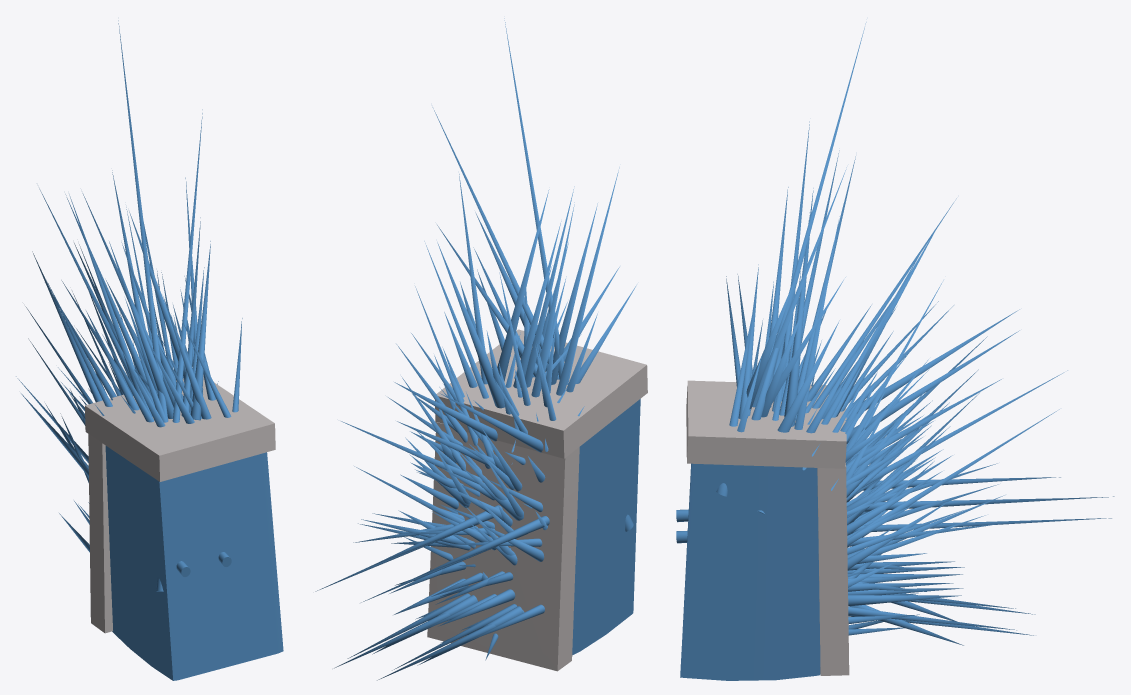
The model's file is JaggedsideStructure.fbx.
3 views of the same model, side by side, from view 1: azimuth 30°, elevation 25°; view 2: azimuth 150°, elevation 25°; view 3: azimuth 270°, elevation 25° (orthographic). The views are drawn at different scales.
Parts seen in each view (by area): view 1: Icemain, Snowtop, Snowside, SharpneedleTop101, SharpneedleTop86, SharpneedleTop89, SharpneedleTop88, SharpneedleTop75, SharpneedleTop93, SharpneedleTop131, SharpneedleTop100, SharpneedleTop77 (+15 smaller); view 2: Snowside, Icemain, Snowtop, SharpneedleTop101, SharpneedleTop88, SharpneedleTop90, SharpneedleTop28, SharpneedleTop86, SharpneedleTop92, SharpneedleTop89, SharpneedleTop93, SharpneedleTop137 (+16 smaller); view 3: Icemain, Snowtop, Snowside, SharpneedleTop101, SharpneedleTop90, SharpneedleTop4, SharpneedleTop86, SharpneedleTop118, SharpneedleTop78, SharpneedleTop126, SharpneedleTop45, SharpneedleTop131 (+15 smaller).
Boxes of the visible parts, x1,y1,x2,y2 form: Icemain: (105, 446, 283, 680); Snowtop: (85, 375, 275, 481); Snowside: (88, 434, 112, 633); SharpneedleTop101: (118, 20, 168, 422); SharpneedleTop86: (156, 109, 202, 591); SharpneedleTop89: (109, 241, 173, 418); SharpneedleTop88: (69, 194, 152, 416); SharpneedleTop75: (190, 241, 210, 420); SharpneedleTop93: (65, 194, 151, 396); SharpneedleTop131: (32, 251, 102, 402); SharpneedleTop100: (163, 296, 211, 419); SharpneedleTop77: (181, 217, 200, 416); Snowside: (427, 422, 579, 671); Icemain: (572, 399, 640, 655); Snowtop: (435, 329, 647, 458); SharpneedleTop101: (504, 18, 564, 379); SharpneedleTop88: (556, 167, 619, 395); SharpneedleTop90: (497, 189, 549, 381); SharpneedleTop28: (437, 242, 505, 408); SharpneedleTop86: (432, 107, 633, 531); SharpneedleTop92: (525, 186, 574, 387); SharpneedleTop89: (551, 203, 597, 384); SharpneedleTop93: (531, 202, 574, 397); SharpneedleTop137: (411, 516, 549, 579); Icemain: (680, 463, 820, 680); Snowtop: (686, 380, 846, 468); Snowside: (817, 463, 849, 675); SharpneedleTop101: (773, 22, 866, 369); SharpneedleTop90: (785, 188, 813, 426); SharpneedleTop4: (812, 198, 956, 408); SharpneedleTop86: (752, 167, 846, 407); SharpneedleTop118: (676, 518, 1111, 543); SharpneedleTop78: (794, 216, 839, 429); SharpneedleTop126: (846, 330, 1019, 443); SharpneedleTop45: (861, 370, 1067, 488); SharpneedleTop131: (857, 309, 1019, 413).
Size of the model in its own units: 14.6 by 53.27 by 33.59.
